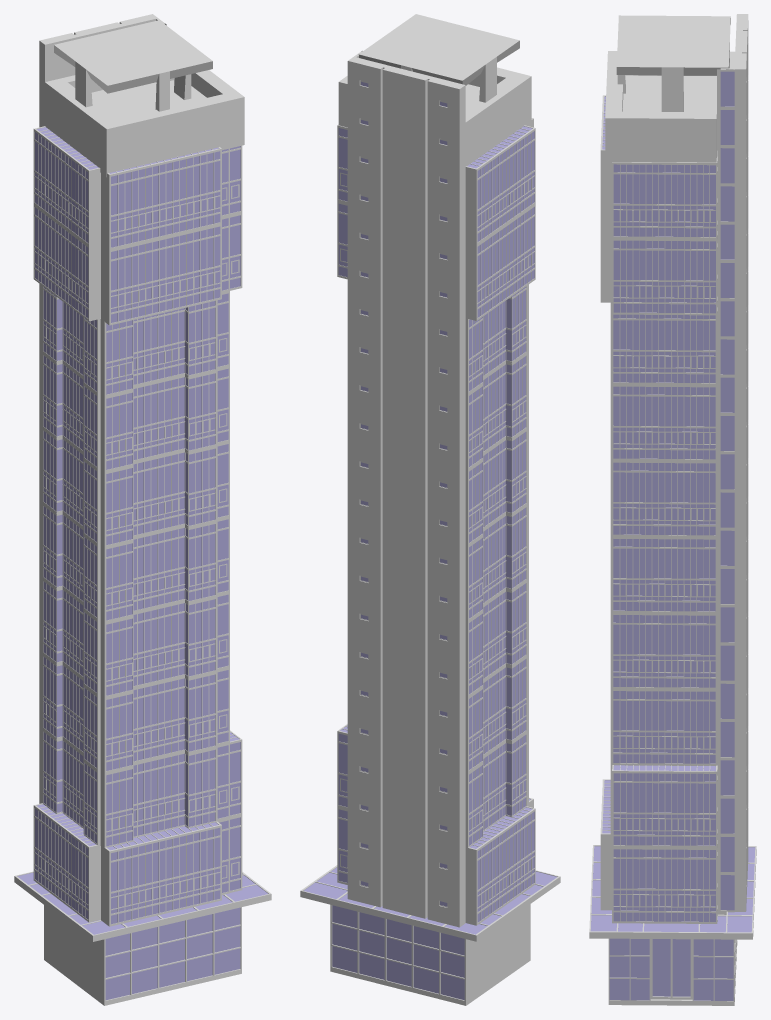
File: H_Building1_Fixed.fbx
The picture shows the model from 3 angles, left to right: view 1: azimuth 30°, elevation 25°; view 2: azimuth 150°, elevation 25°; view 3: azimuth 270°, elevation 25°; orthographic projection.
Parts seen in each view (by area): view 1: skyscraper7; view 2: skyscraper7; view 3: skyscraper7.
Part boxes in pixels (x1,y1,x2,y2): skyscraper7: [14, 14, 271, 1005]; skyscraper7: [300, 14, 560, 1005]; skyscraper7: [589, 14, 756, 1005].
Size of the model in its own units: 1491 by 7271 by 1191.
